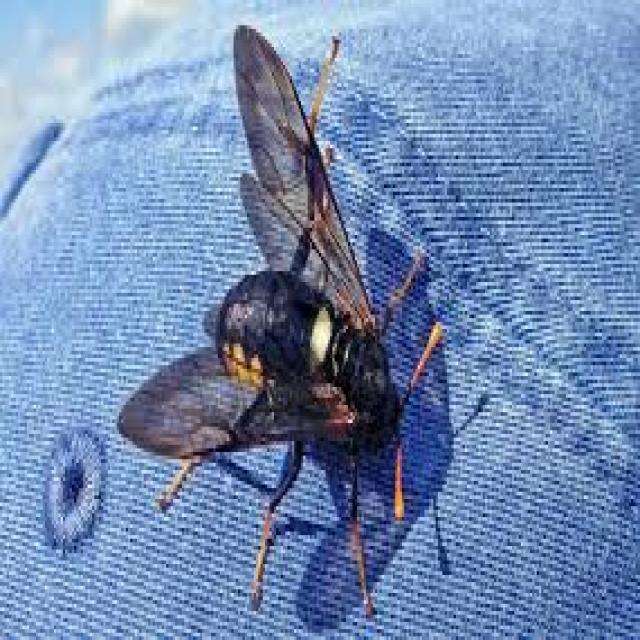Saw Fly: (114, 22, 470, 624)
